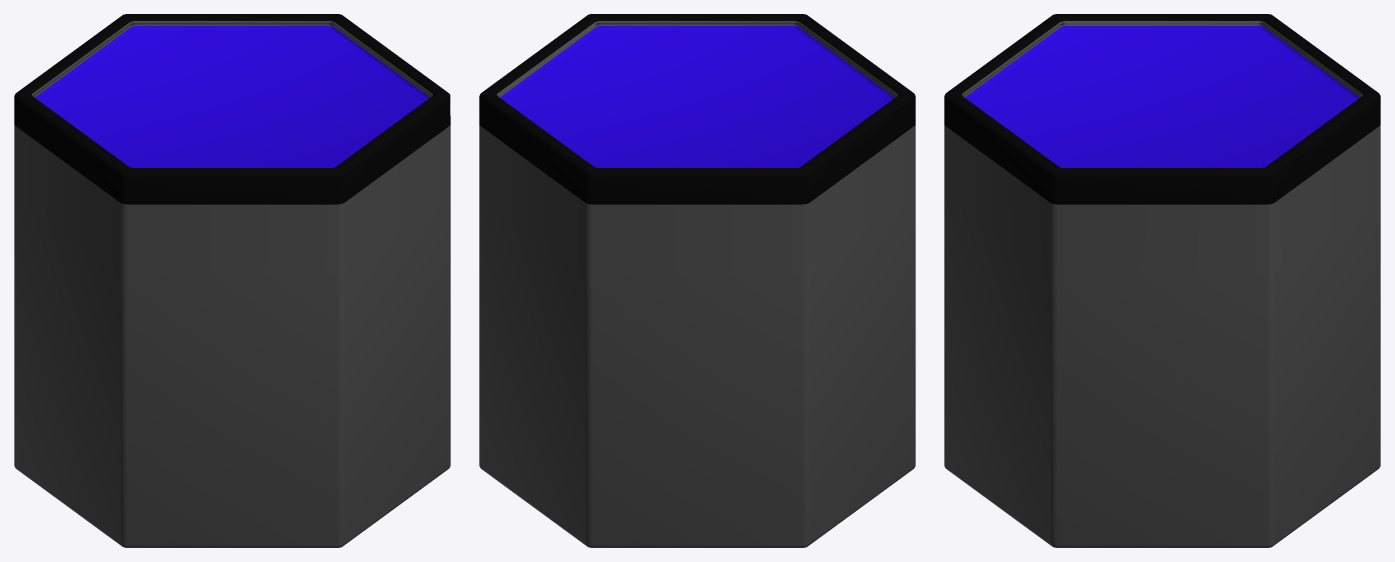
Rendered from HexTileObstacle.fbx.
3 views of the same model, side by side, from view 1: azimuth 30°, elevation 25°; view 2: azimuth 150°, elevation 25°; view 3: azimuth 270°, elevation 25° (orthographic).
Parts seen in each view (by area): view 1: Cylinder; view 2: Cylinder; view 3: Cylinder.
Part boxes in pixels (x1,y1,x2,y2): Cylinder: [14, 14, 450, 547]; Cylinder: [479, 14, 915, 547]; Cylinder: [944, 14, 1380, 547].
Size of the model in its own units: 173 by 199 by 189.
